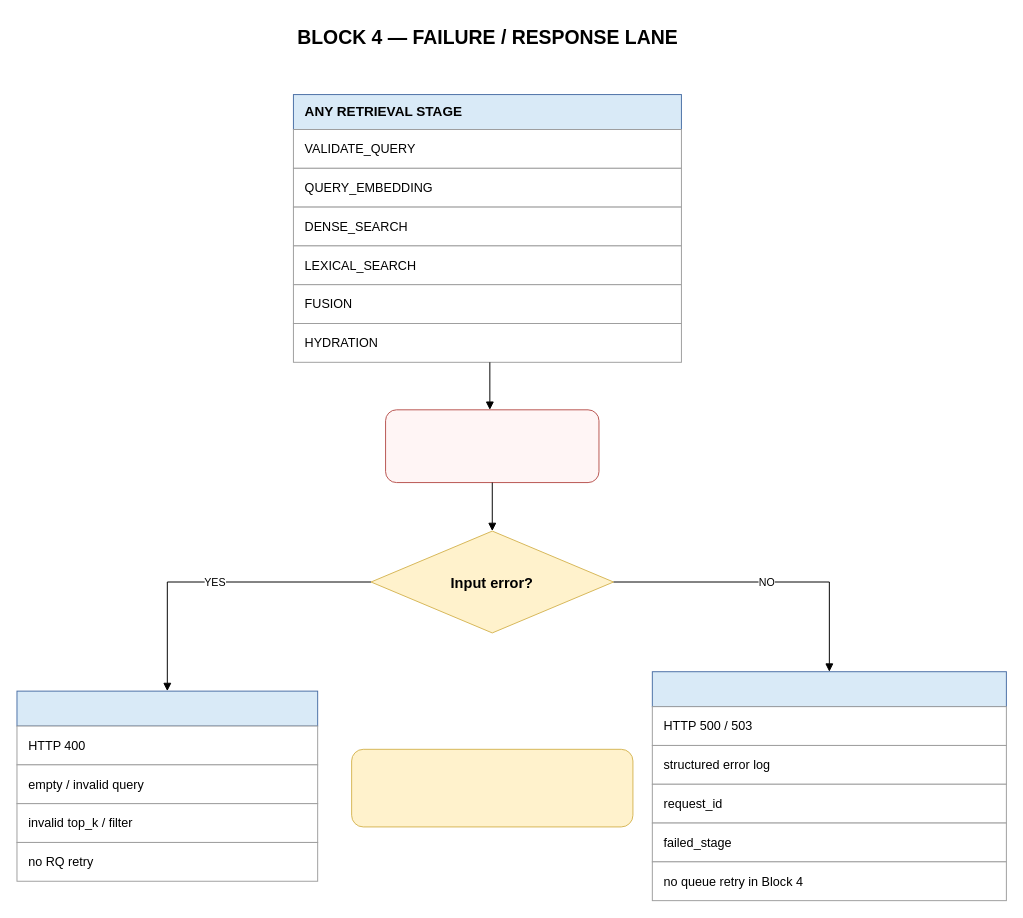
This 1023x918 diagram has some shape labels left out. The centre of each missing label's shape, as x and y in pixels:
"CLIENT RESPONSE" belongs at pixel 167 708.
"Exception / Invalid State" belongs at pixel 492 446.
"RETRIEVAL ERROR" belongs at pixel 828 689.
"VALID QUERY + 0 MATCHES IS NOT AN ERROR Return HTTP 200 with results = []" belongs at pixel 492 787.
